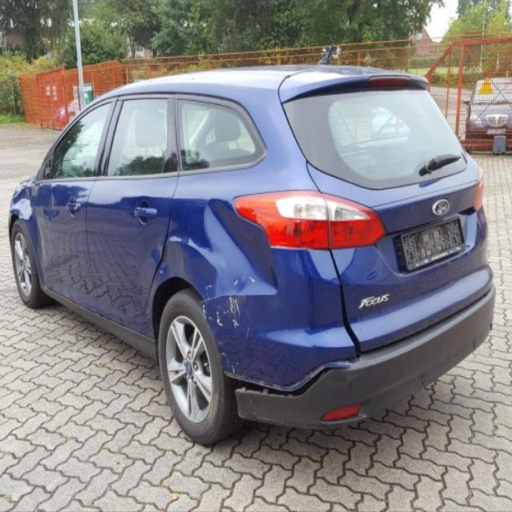dent: (126, 190, 282, 317), (31, 217, 83, 292), (10, 185, 41, 221), (44, 193, 61, 230)
scratch: (218, 341, 239, 375)
